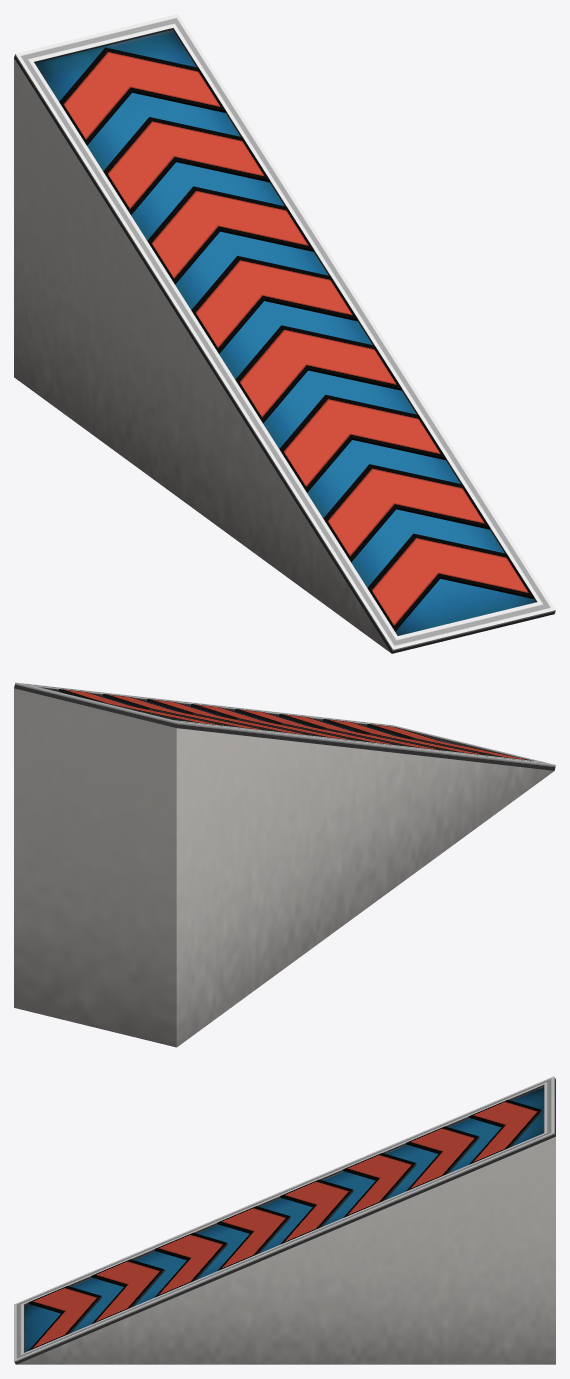
The model's file is JumpAscent03.FBX.
3 views of the same model, one above another, from view 1: azimuth 30°, elevation 25°; view 2: azimuth 150°, elevation 25°; view 3: azimuth 270°, elevation 25° (orthographic). The views are drawn at different scales.
Parts seen in each view (by area): view 1: JumpAscent03; view 2: JumpAscent03; view 3: JumpAscent03.
Boxes of the visible parts, x1,y1,x2,y2 form: JumpAscent03: [14, 14, 555, 653]; JumpAscent03: [14, 682, 555, 1047]; JumpAscent03: [14, 1076, 555, 1364].
Bounding box in the file's own units: 80 × 152 × 323.
